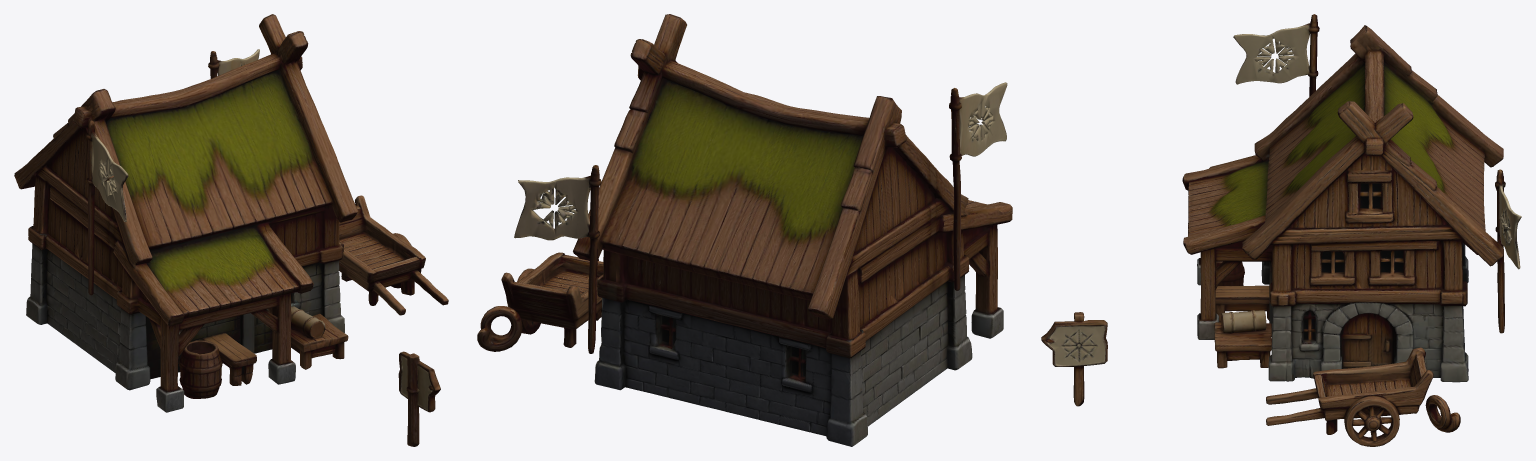
The model's file is 3b6ef04a-1179-4491-8fca-6abb9d67952a.fbx.
3 renders of one model, left to right at view 1: azimuth 30°, elevation 25°; view 2: azimuth 150°, elevation 25°; view 3: azimuth 270°, elevation 25°, orthographic. The views are drawn at different scales.
Parts seen in each view (by area): view 1: tripo_node_83fee069; view 2: tripo_node_83fee069; view 3: tripo_node_83fee069.
Boxes of the visible parts, <box> form: tripo_node_83fee069: <box>14,14,448,446</box>; tripo_node_83fee069: <box>477,14,1012,446</box>; tripo_node_83fee069: <box>1041,14,1521,446</box>.
Size of the model in its own units: 0.8275 by 0.7066 by 0.9854.
